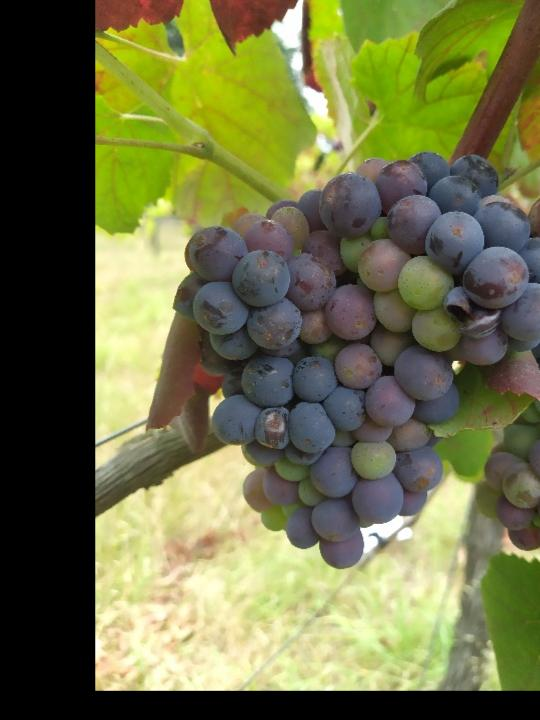grape: (170, 153, 540, 574)
